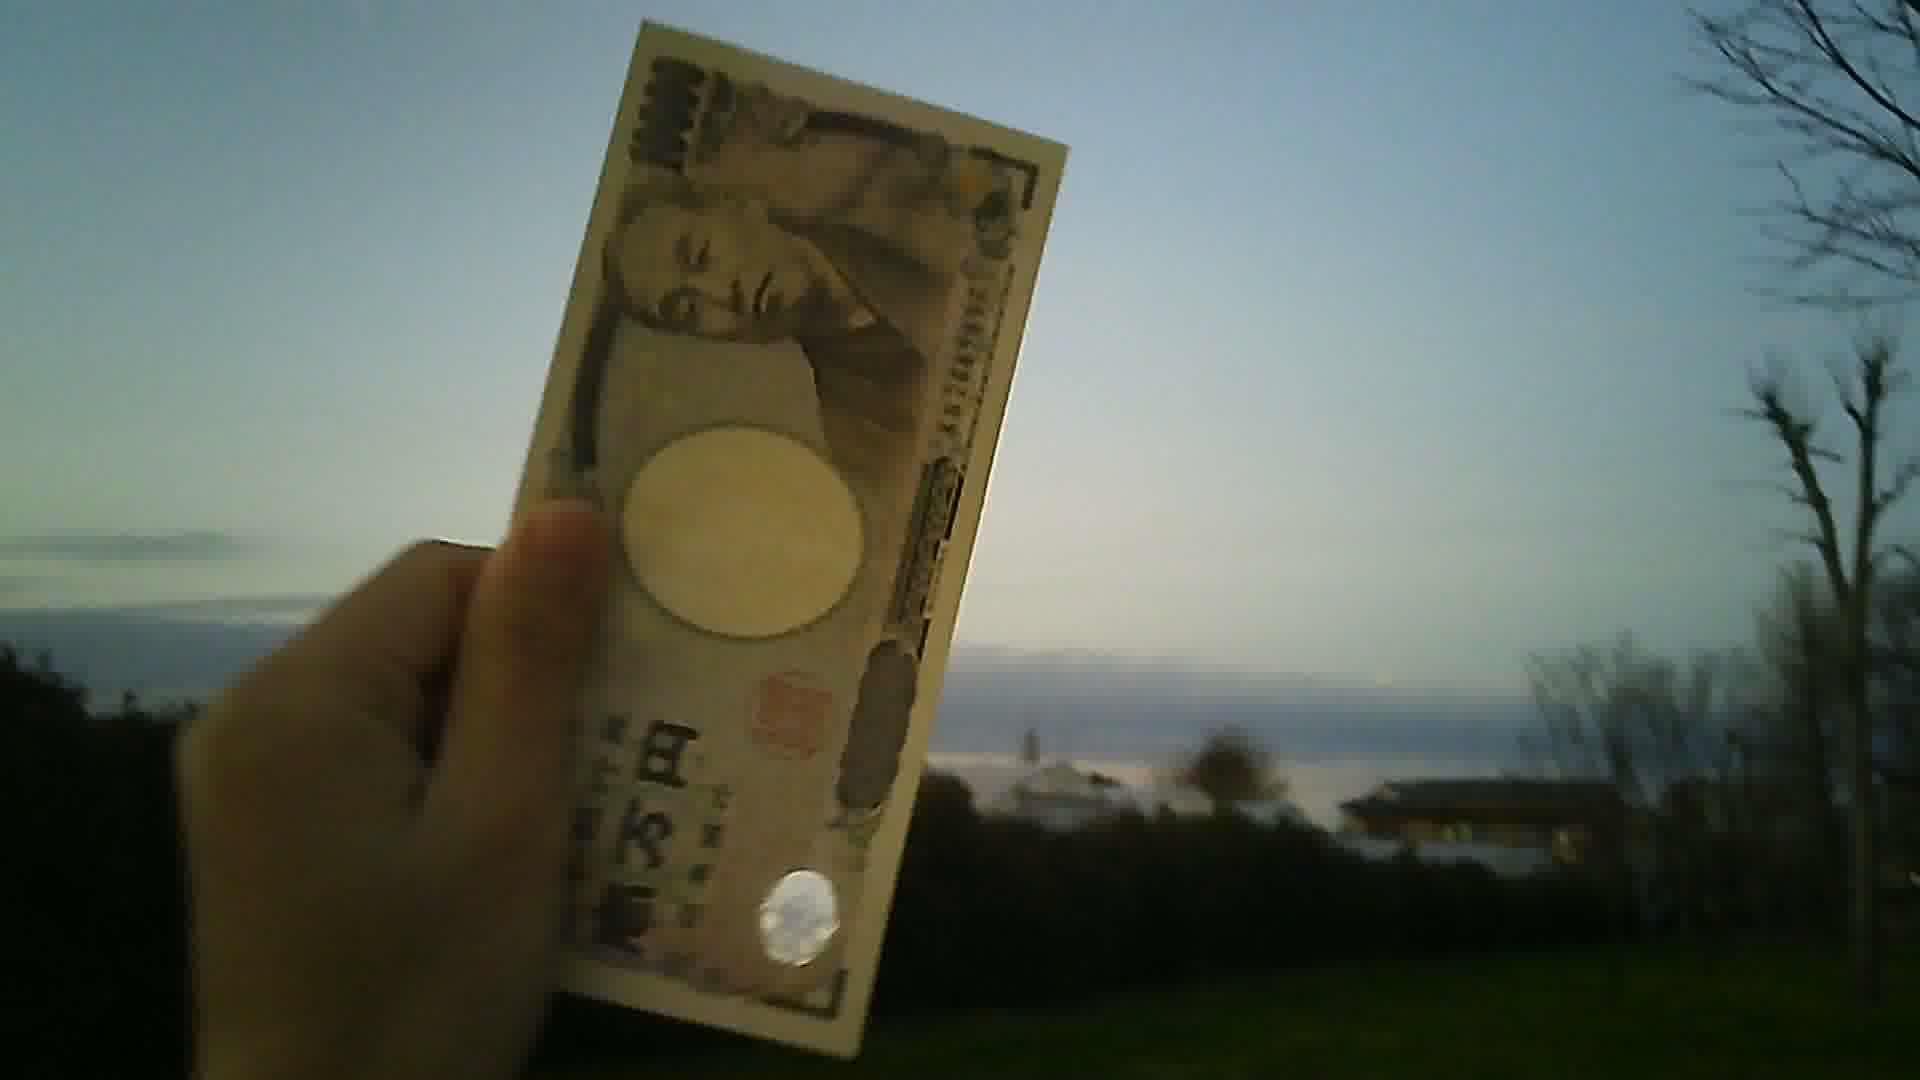10,000 Yen: (468, 1, 1083, 1076)
